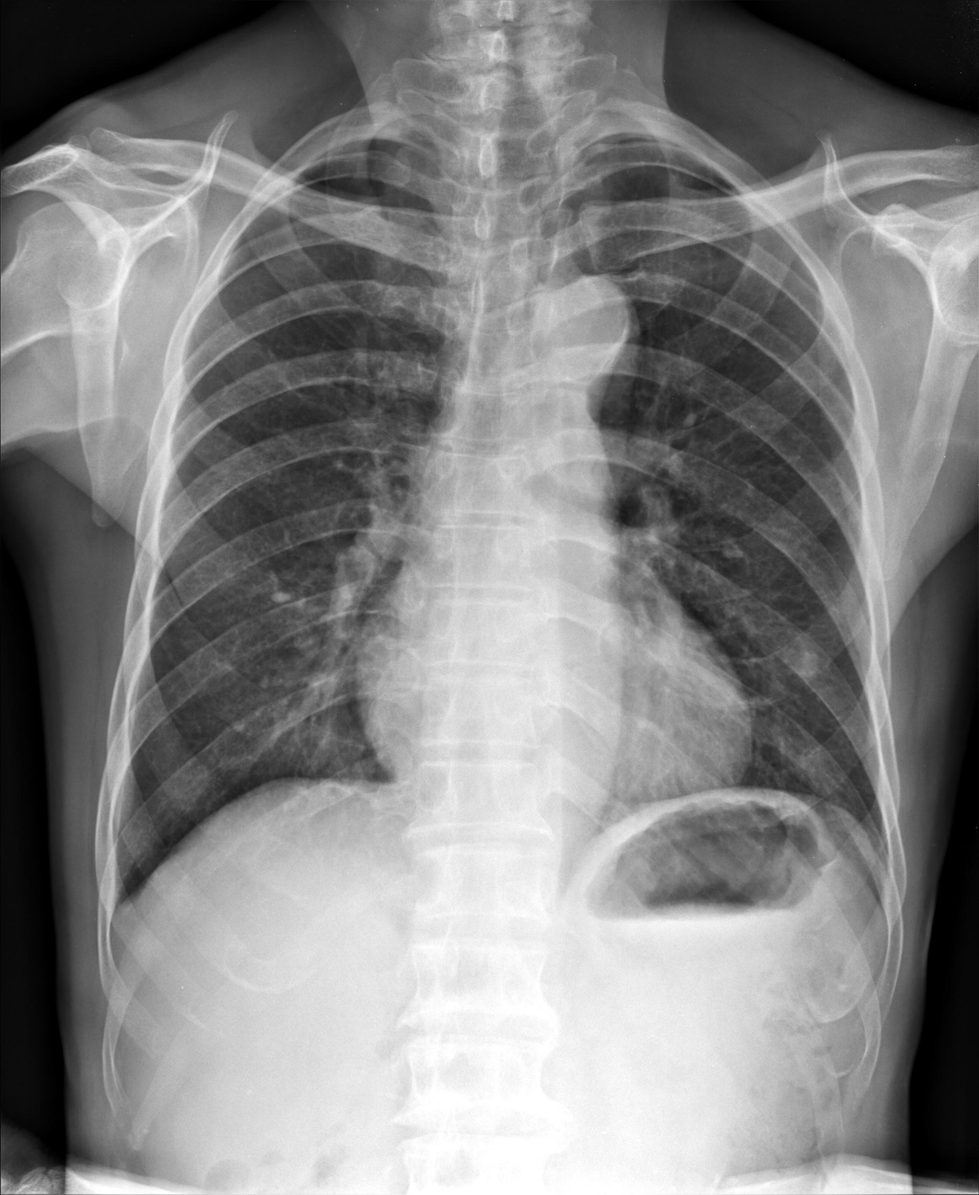Aortic enlargement: (528, 275, 641, 393)
Cardiomegaly: (350, 618, 754, 806)
Pleural thickening: (578, 131, 681, 158), (309, 137, 392, 164)
